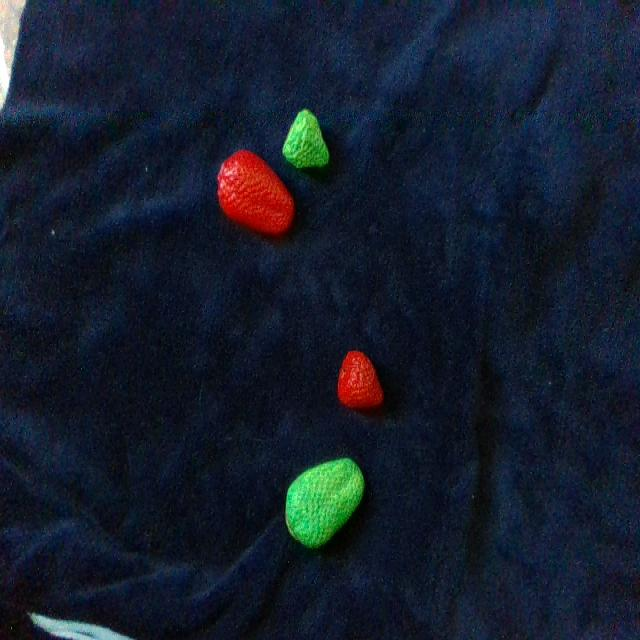chica_roja: (338, 352, 383, 408)
grande_roja: (218, 151, 292, 235)
verde: (285, 459, 364, 547), (283, 109, 329, 168)
